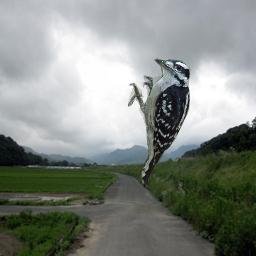Woodpecker: (128, 57, 198, 188)
